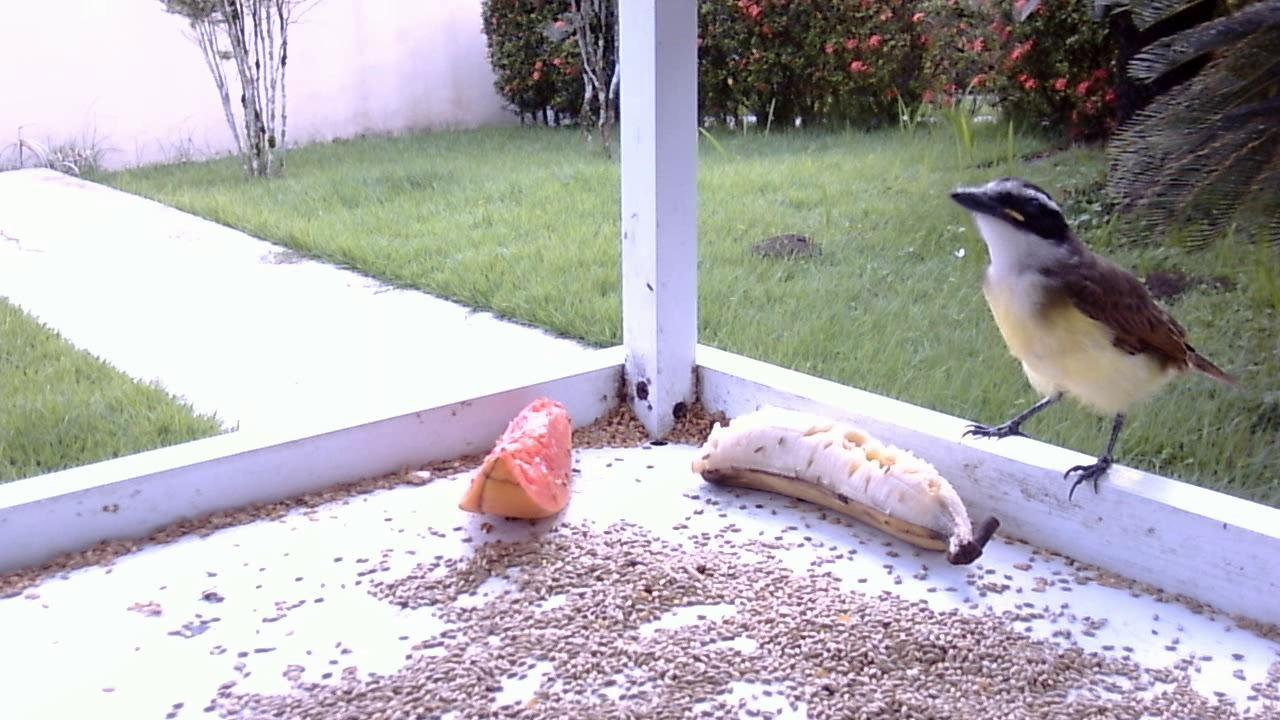bem_te_vi: (931, 168, 1247, 522)
